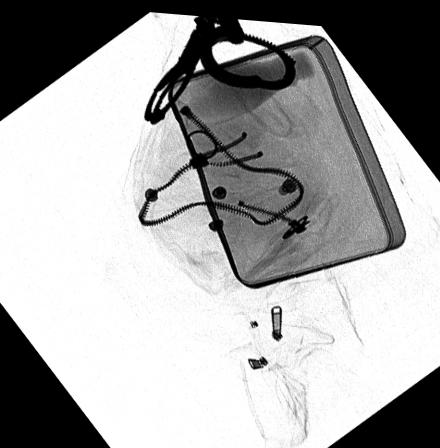HandCuffs: (143, 12, 297, 121)
